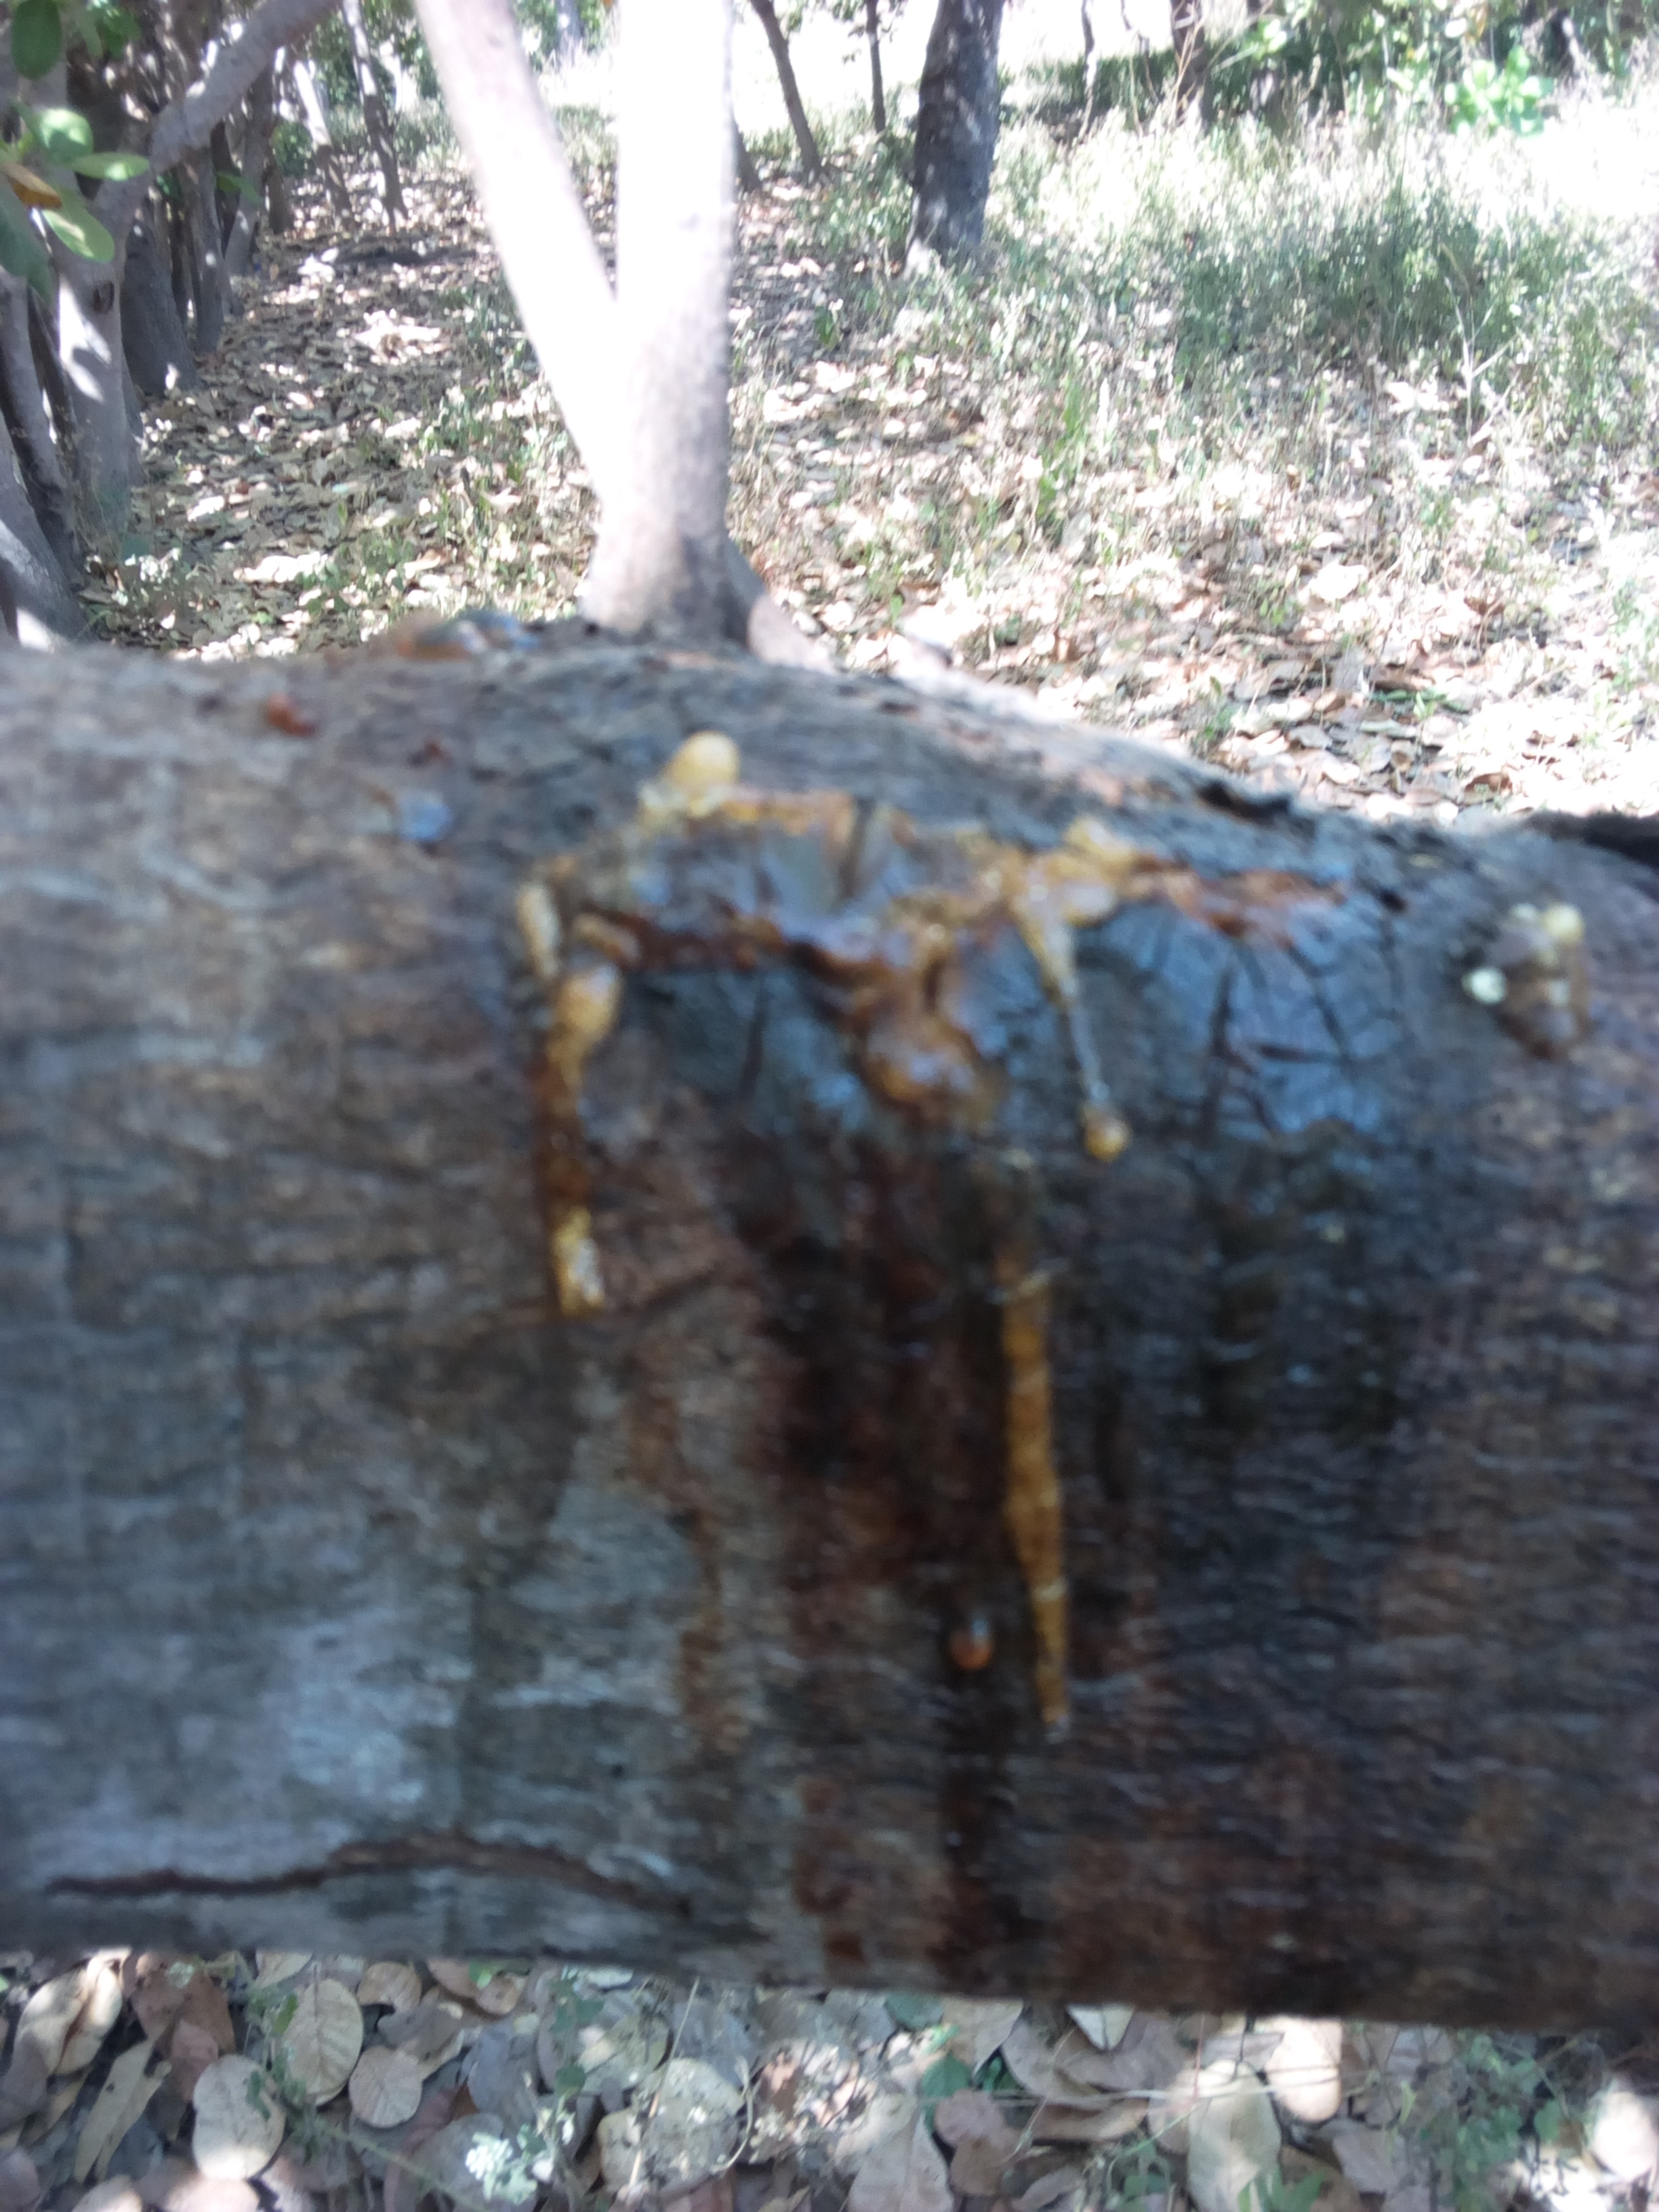Gommose: (532, 655, 1659, 2001)
